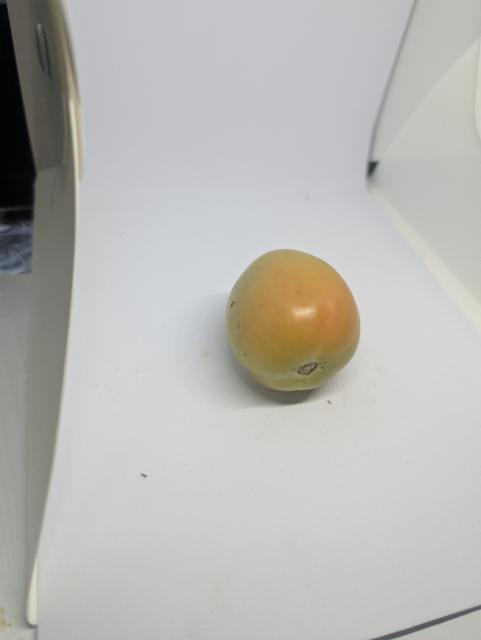breaker: (224, 241, 367, 404)
